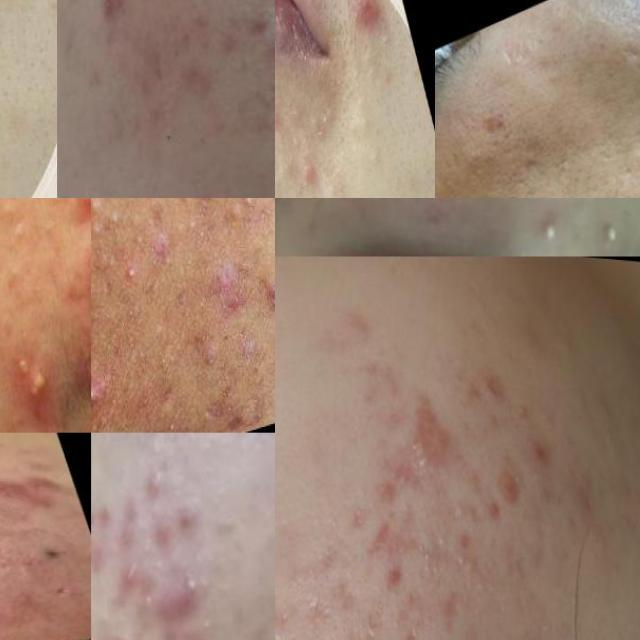acne_scars: (91, 482, 149, 580), (367, 513, 423, 564), (511, 145, 562, 198), (91, 603, 158, 640), (352, 356, 410, 388), (358, 589, 391, 633), (331, 564, 357, 614), (481, 356, 506, 402), (371, 476, 396, 503)
comedone: (0, 198, 35, 261), (306, 100, 341, 153), (129, 585, 166, 628), (91, 198, 124, 242), (352, 47, 380, 97), (118, 242, 148, 288), (37, 210, 66, 257), (189, 601, 221, 640), (450, 547, 483, 580), (222, 198, 260, 224), (14, 582, 46, 608), (253, 21, 275, 58), (363, 137, 383, 173), (4, 616, 42, 634), (375, 29, 392, 60), (451, 489, 466, 520), (434, 528, 450, 555), (0, 631, 33, 640)
papule: (398, 399, 461, 484), (163, 490, 212, 556), (167, 556, 216, 617), (491, 457, 527, 508), (345, 0, 385, 41), (138, 463, 167, 516), (377, 550, 409, 598), (92, 0, 131, 38), (109, 556, 147, 595), (290, 153, 318, 198), (68, 198, 91, 241)
pustule: (589, 208, 627, 256), (91, 359, 114, 427), (532, 213, 566, 249), (251, 273, 275, 320)
sebo-crystan-conglo: (19, 356, 57, 414), (78, 242, 91, 310)
